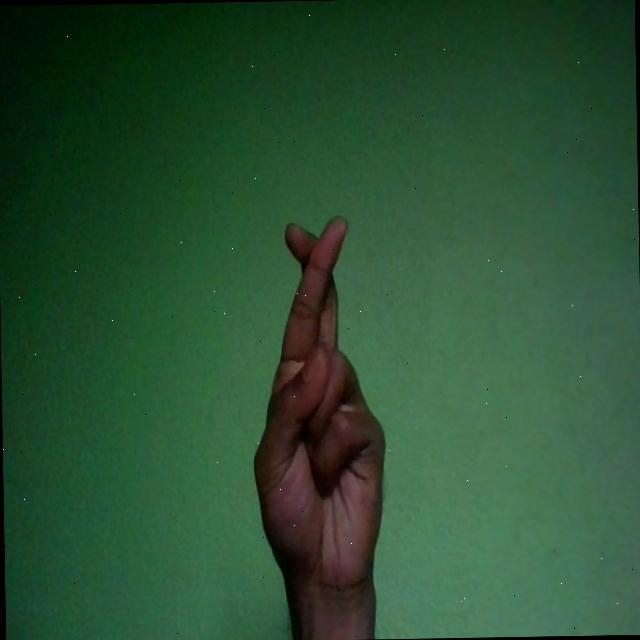Ok: (248, 214, 388, 602)
